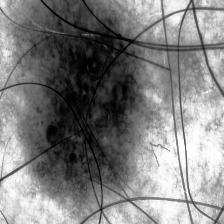Benign Marking or Mole: (11, 0, 142, 199)
